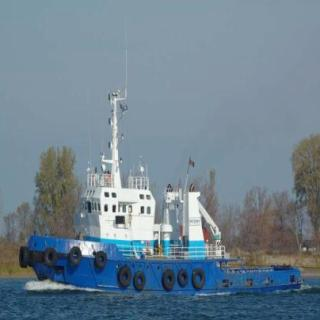Tug Boat: (11, 95, 297, 292)
